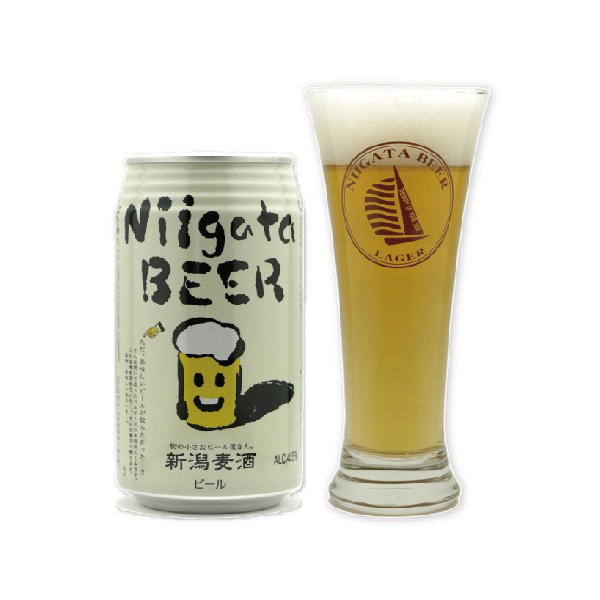beer can: (115, 154, 308, 515)
